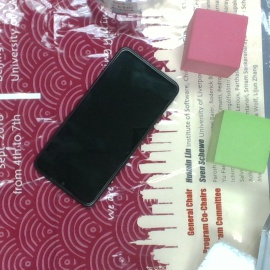phone: (32, 45, 180, 211)
